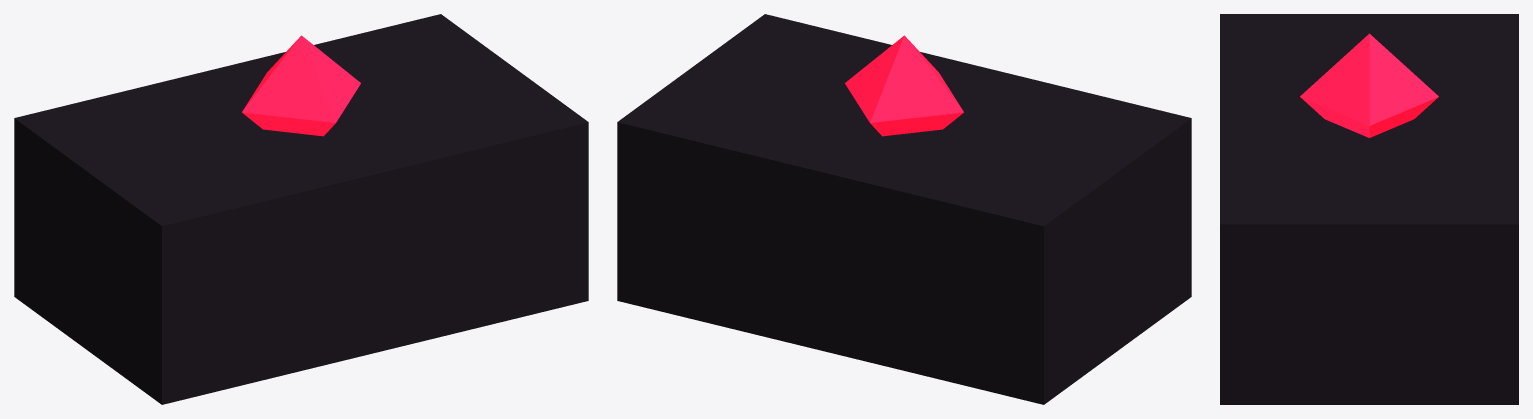
Rendered from demon_altar.glb.
The picture shows the model from 3 angles, left to right: view 1: azimuth 30°, elevation 25°; view 2: azimuth 150°, elevation 25°; view 3: azimuth 270°, elevation 25°; orthographic projection.
Size of the model in its own units: 2 by 1.18 by 1.2.
